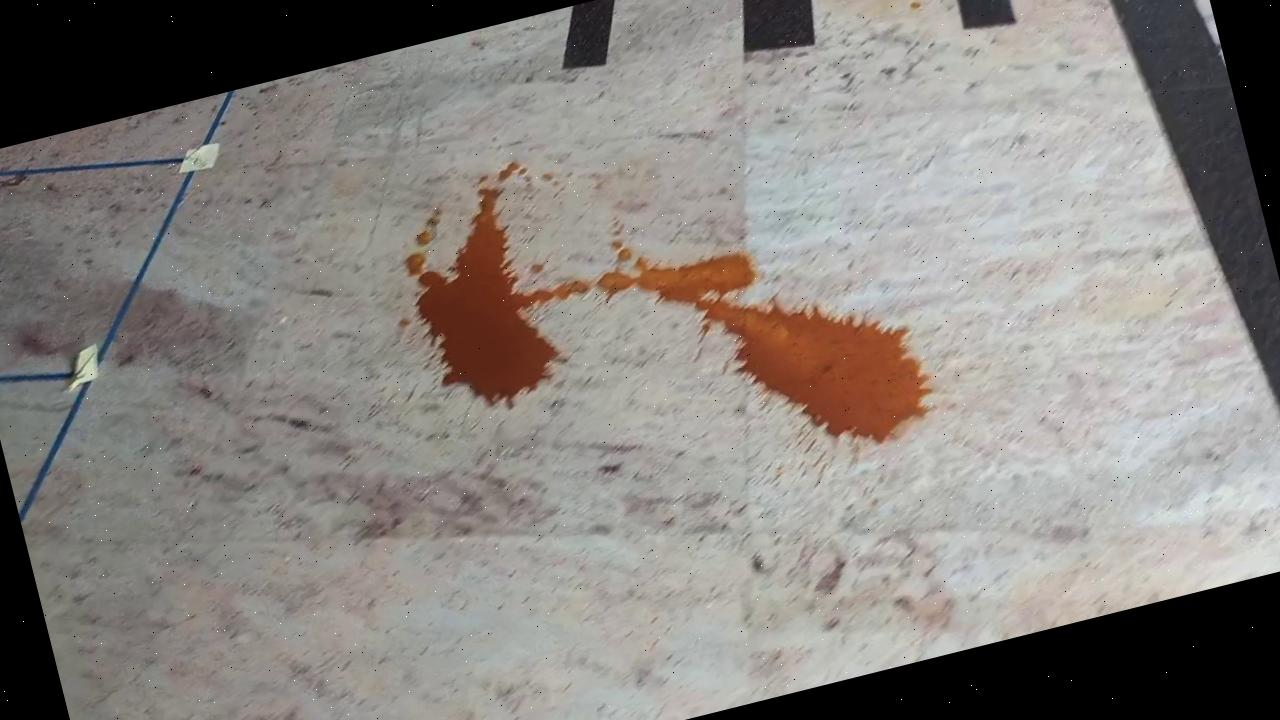dirty_floor: (387, 73, 934, 545)
